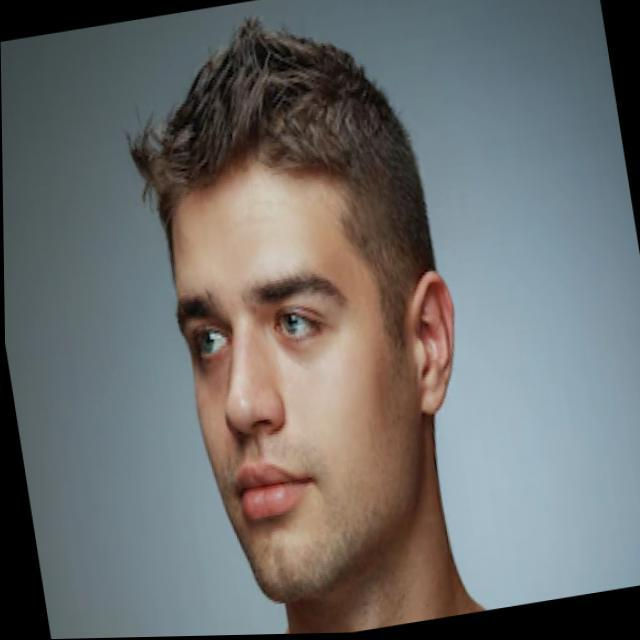Nonhelmet: (123, 17, 464, 605)
